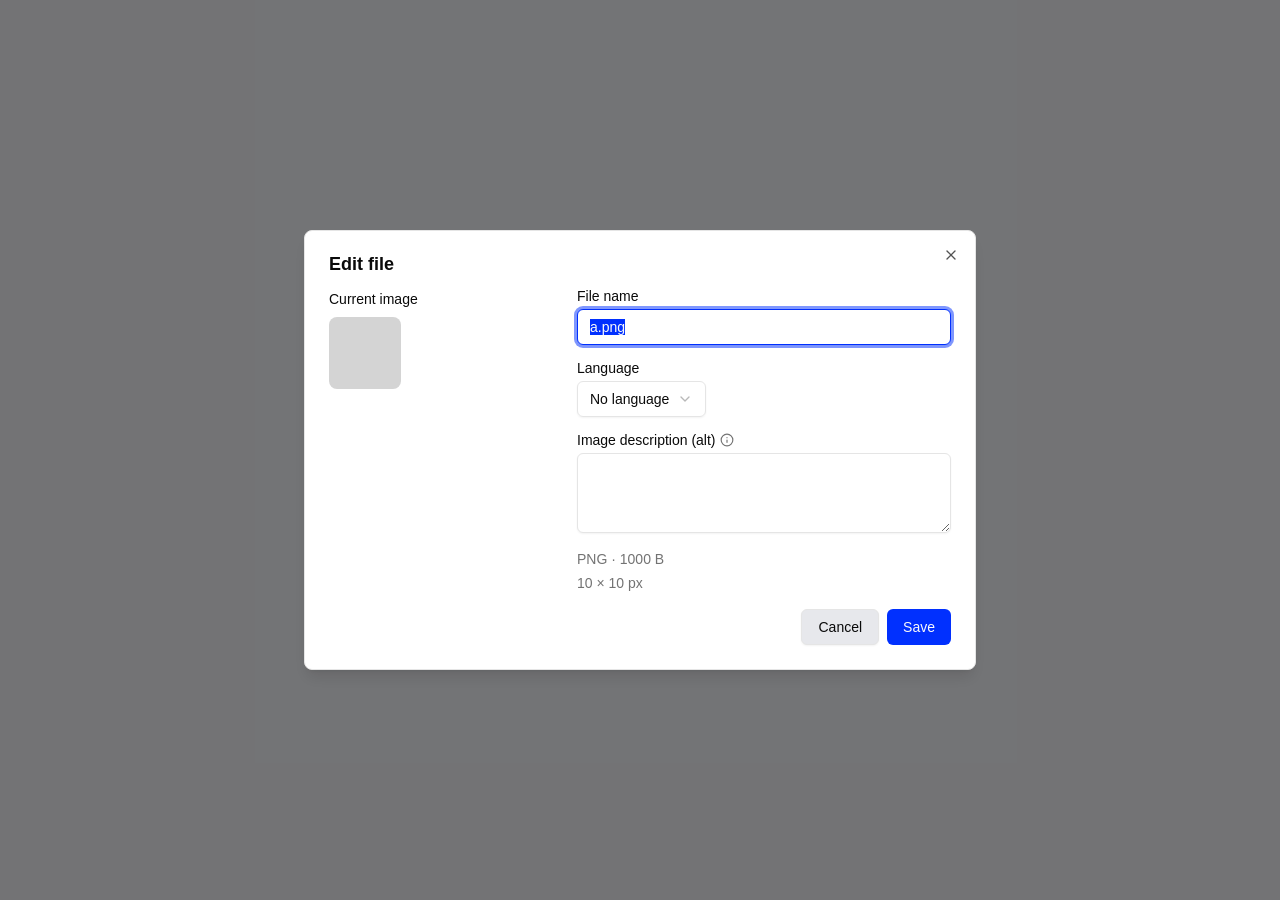
Scenario: FileDetailDialog alt text › should send the version of the file and tell a stale one with a dialog
The width and height of the screenshot is (1280, 900).
Type "A red car" into the text box labelled "Image description (alt)" at (764, 493), box x1=577 y1=453 x2=951 y2=533
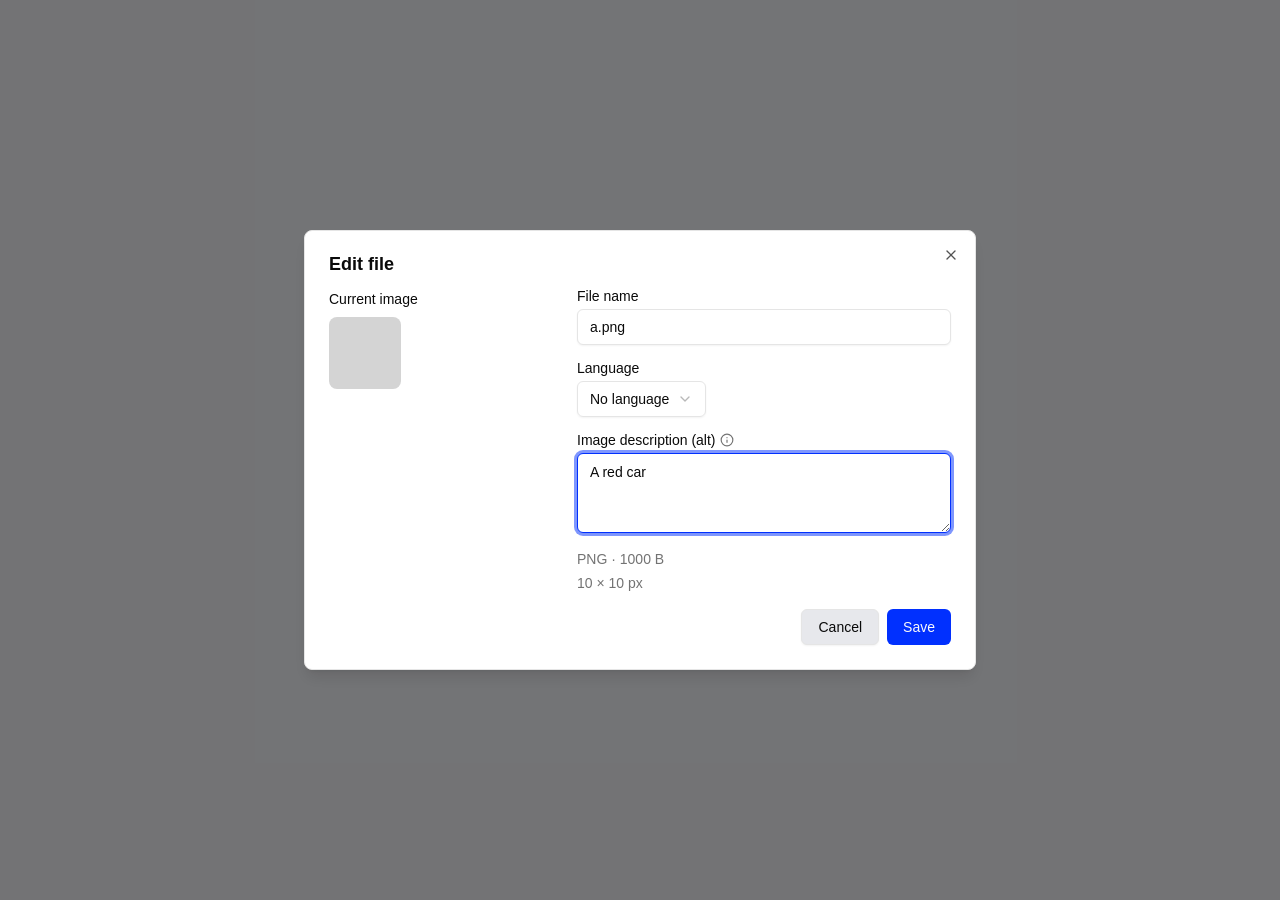
Click the button "Save" at (919, 627), box x1=887 y1=609 x2=951 y2=645
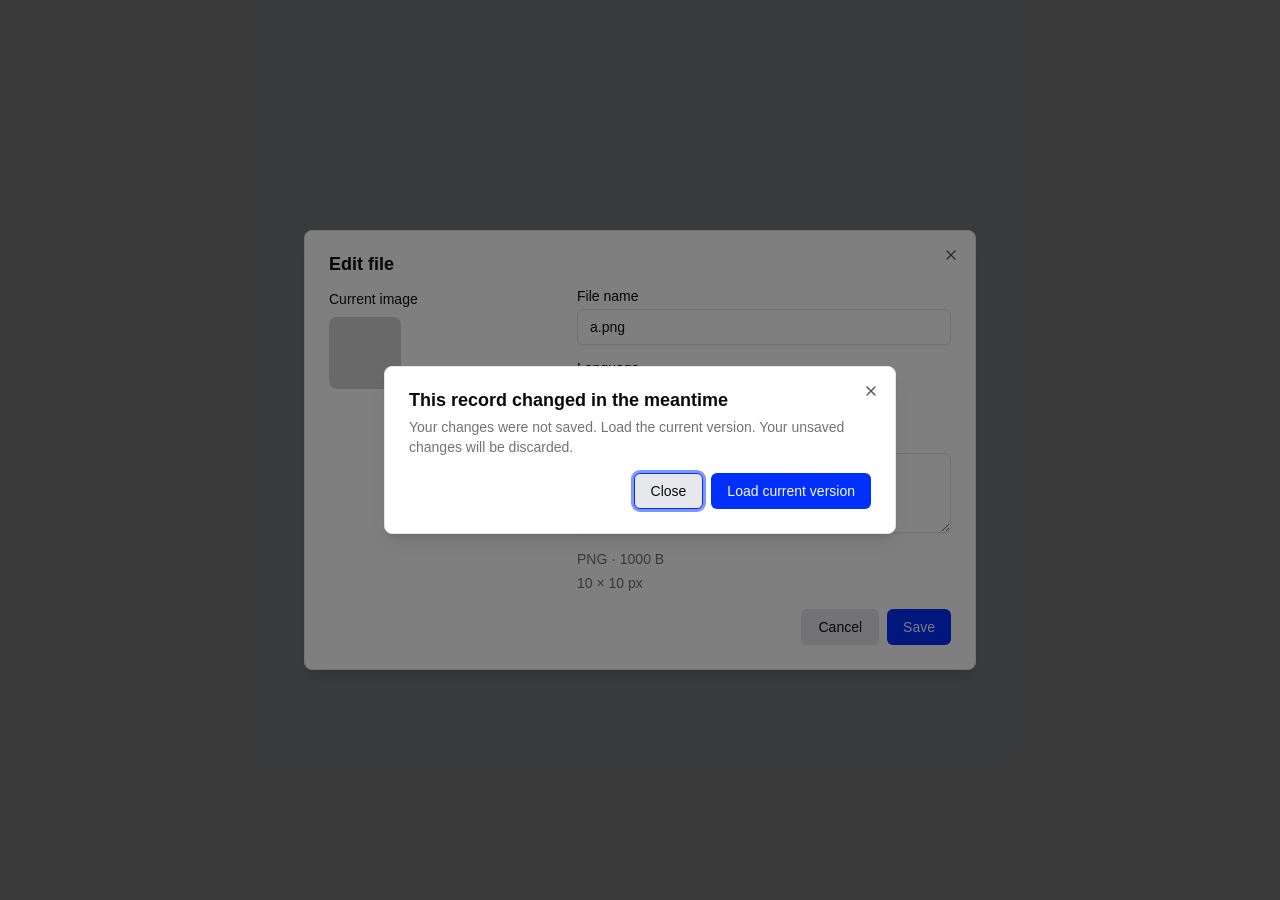
Now the dialog "This record changed in the meantime" is shown, box x1=384 y1=366 x2=896 y2=534
